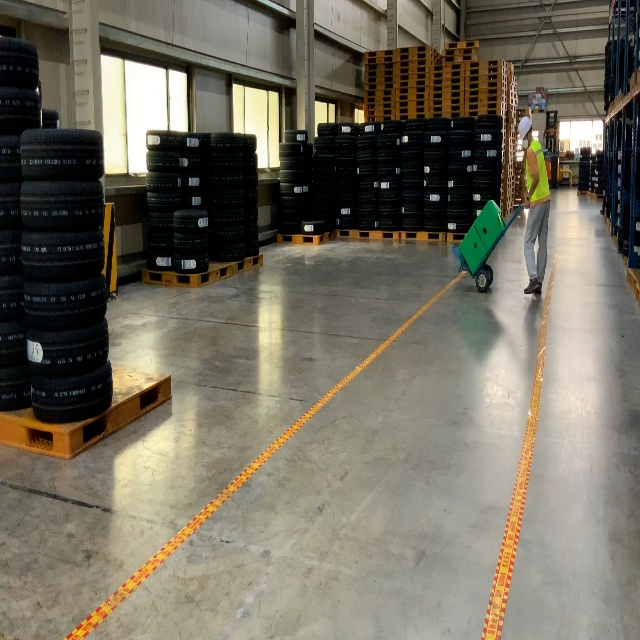Box: (473, 199, 507, 252), (458, 223, 488, 275)
Worker: (517, 115, 552, 295)
